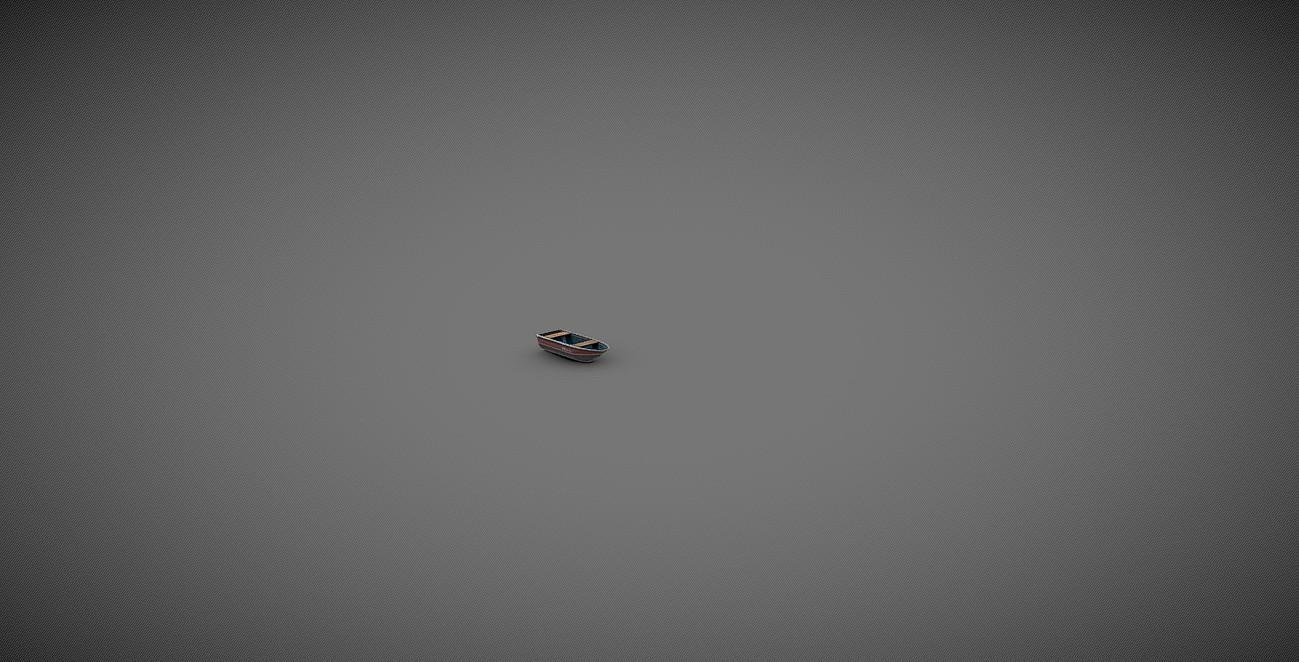Boat: (535, 327, 609, 363)
